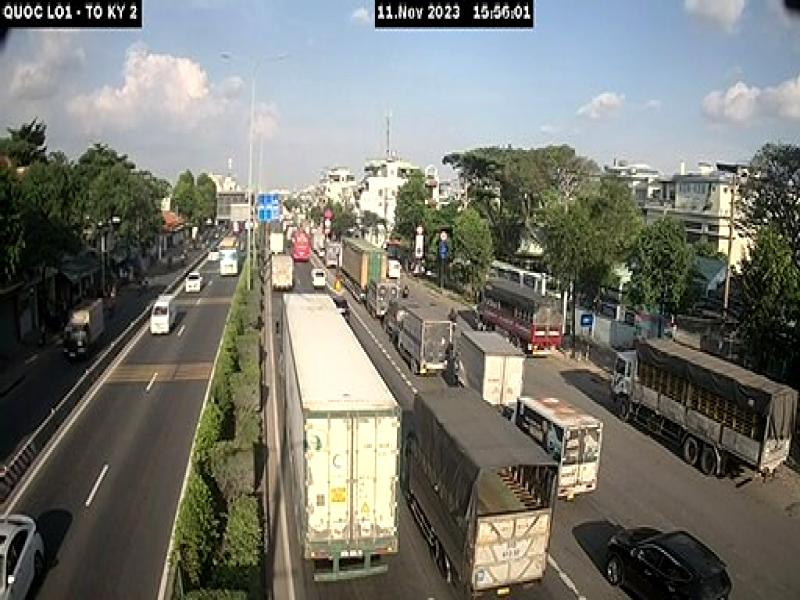truck: (281, 285, 398, 585), (406, 383, 560, 600), (611, 338, 800, 487), (508, 392, 602, 504), (473, 278, 564, 361), (451, 328, 527, 414), (398, 305, 455, 379), (62, 297, 106, 366)
